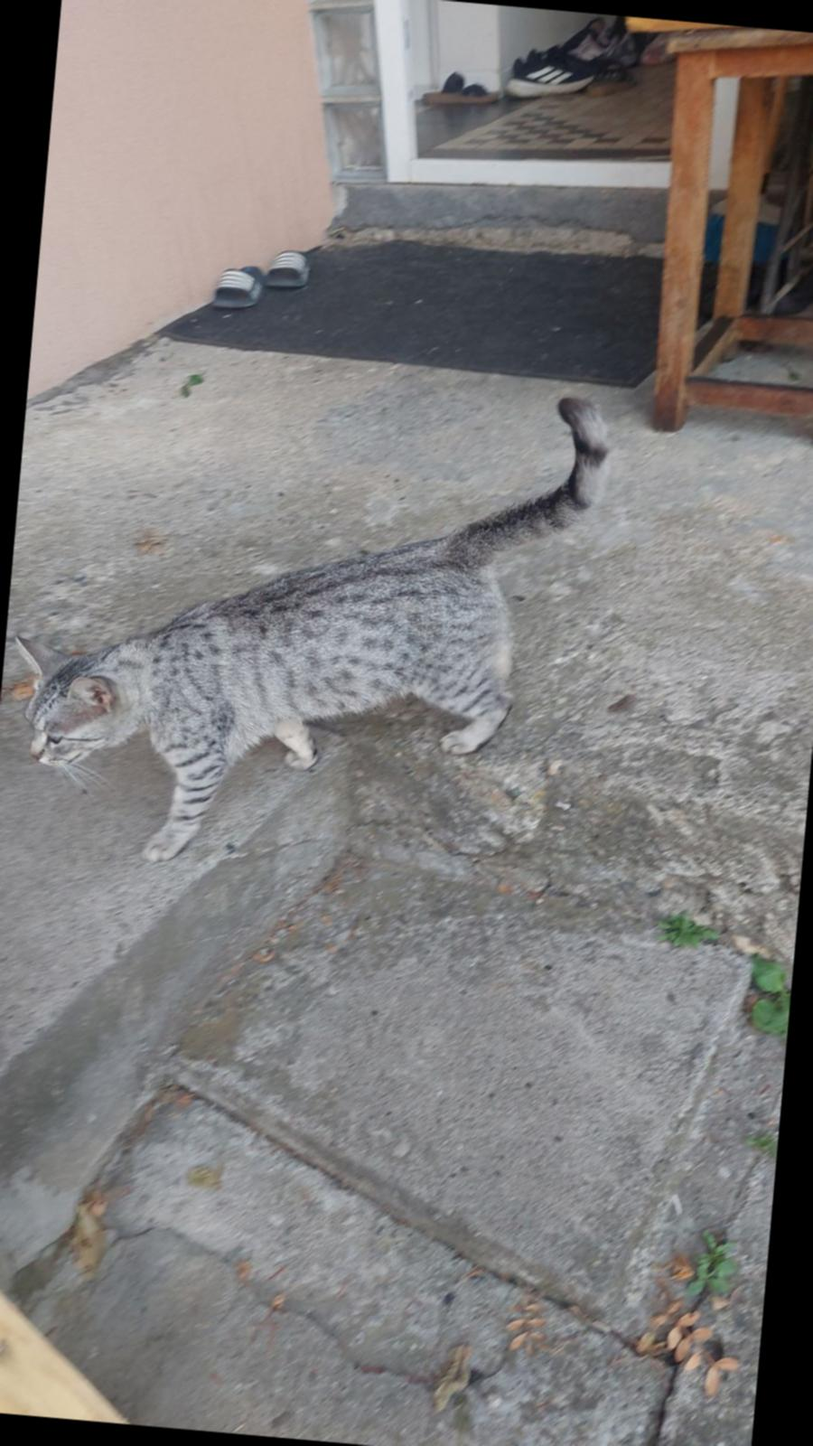macka: (0, 351, 615, 901)
